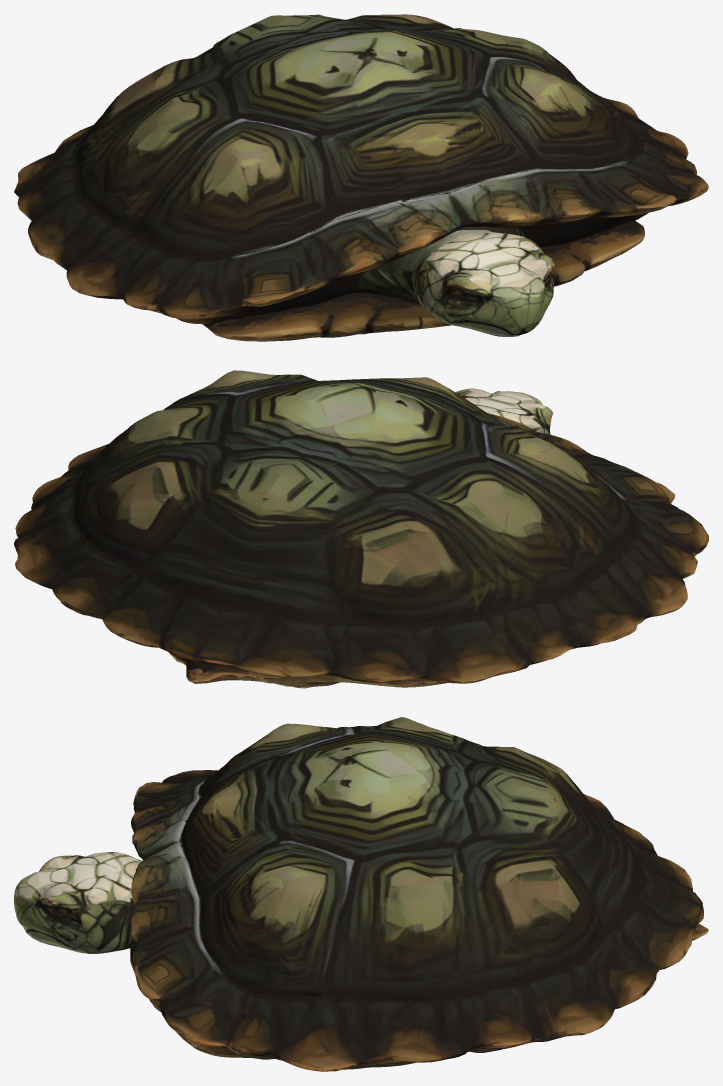
Rendered from item_iron_turtle_shell.glb.
The picture shows the model from 3 angles, top to bottom: view 1: azimuth 30°, elevation 25°; view 2: azimuth 150°, elevation 25°; view 3: azimuth 270°, elevation 25°; orthographic projection. The views are drawn at different scales.
Visible parts, largest first — view 1: item_iron_turtle_shell; view 2: item_iron_turtle_shell; view 3: item_iron_turtle_shell.
Part boxes in pixels (box(x1,y1,x2,y2)): item_iron_turtle_shell: box(14, 14, 708, 341); item_iron_turtle_shell: box(14, 370, 708, 688); item_iron_turtle_shell: box(14, 717, 708, 1071).
Size of the model in its own units: 0.4 by 0.1452 by 0.3829.
1 material, 1 textured.
